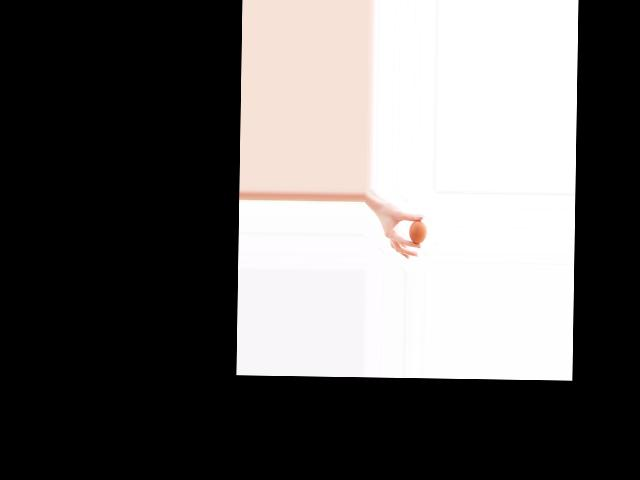egg: (409, 220, 427, 244)
